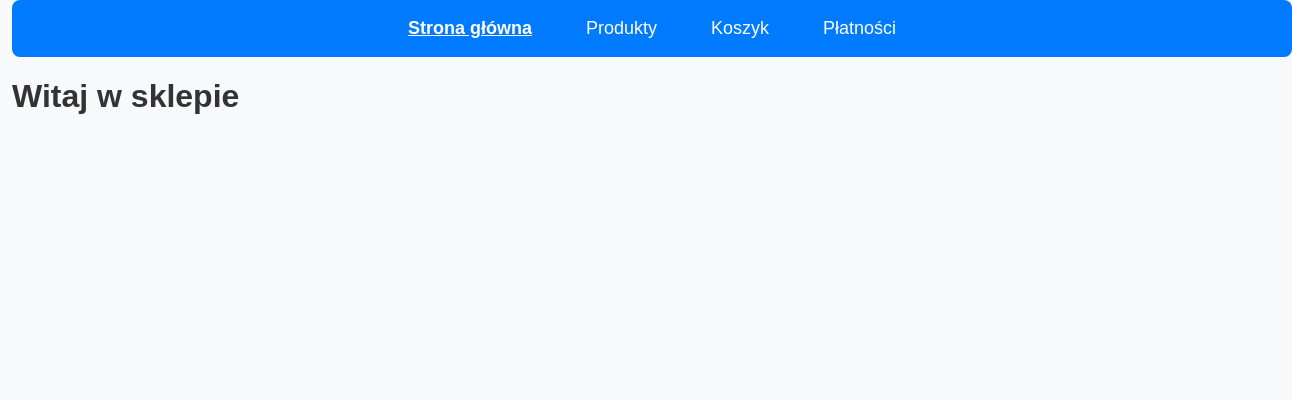
Test: Navigation Bar Tests › Payment button should work and display the payment form
This screenshot has width=1292, height=400.
Click the link "Płatności" at (860, 28), box [823,18,896,38]
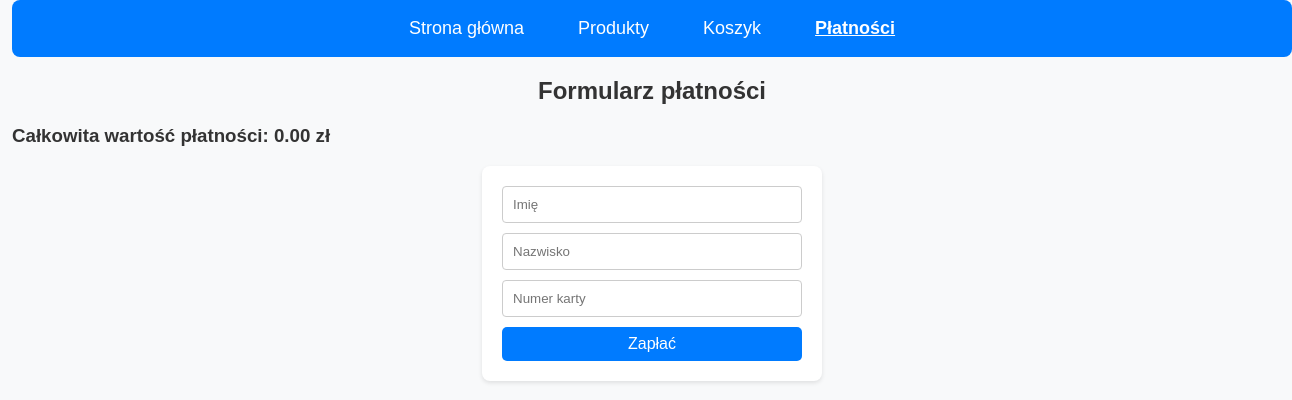
Result: the heading "Formularz płatności" is shown at [538,77,766,104]
Result: the form is shown at [482,166,822,381]
